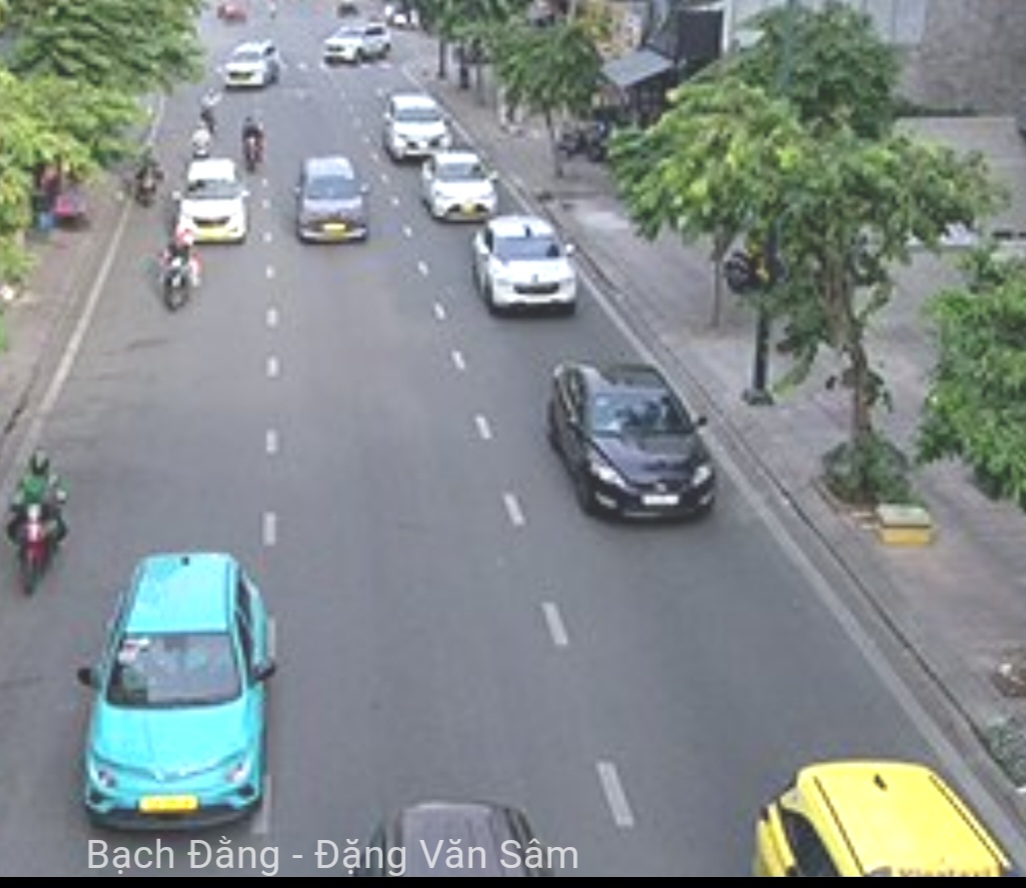car: (82, 549, 263, 829), (547, 357, 720, 529), (472, 217, 578, 314), (294, 157, 369, 243), (178, 158, 249, 244), (418, 152, 502, 223), (384, 94, 452, 160)
